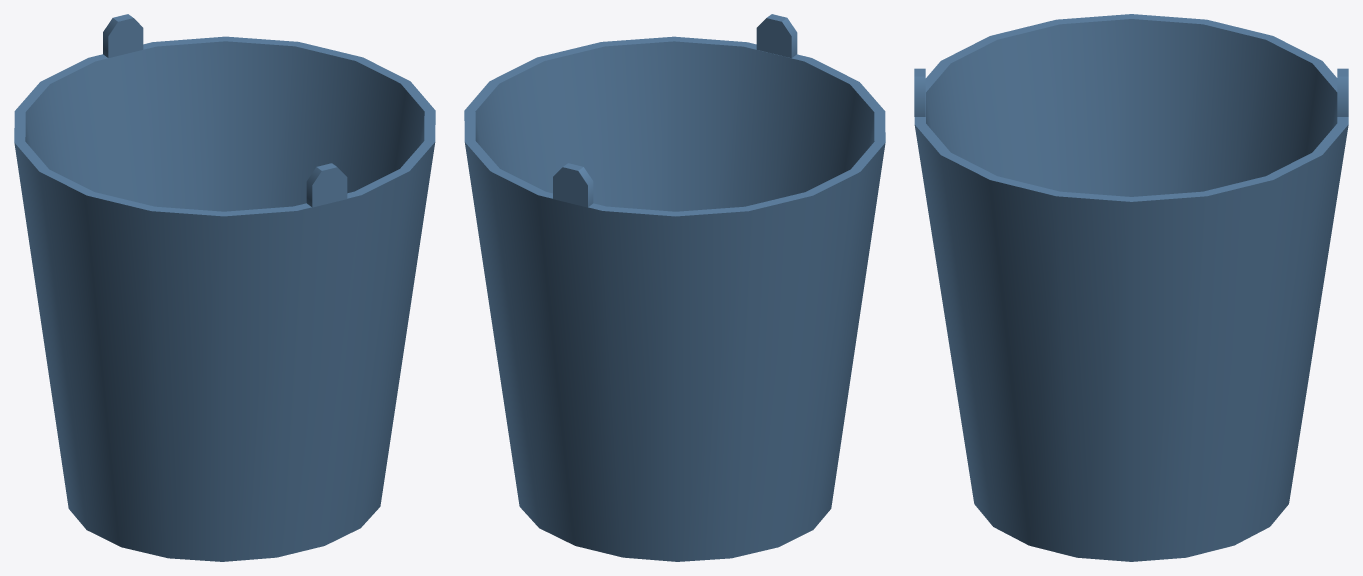
Rendered from metalbucket.FBX.
3 views of the same model, side by side, from view 1: azimuth 30°, elevation 25°; view 2: azimuth 150°, elevation 25°; view 3: azimuth 270°, elevation 25° (orthographic). The views are drawn at different scales.
Visible parts, largest first — view 1: bucket; view 2: bucket; view 3: bucket.
Boxes of the visible parts, left/top/right/bottom form: bucket: left=14, top=14, right=435, bottom=561; bucket: left=464, top=14, right=885, bottom=561; bucket: left=914, top=14, right=1348, bottom=561.
Size of the model in its own units: 134 by 140 by 131.
